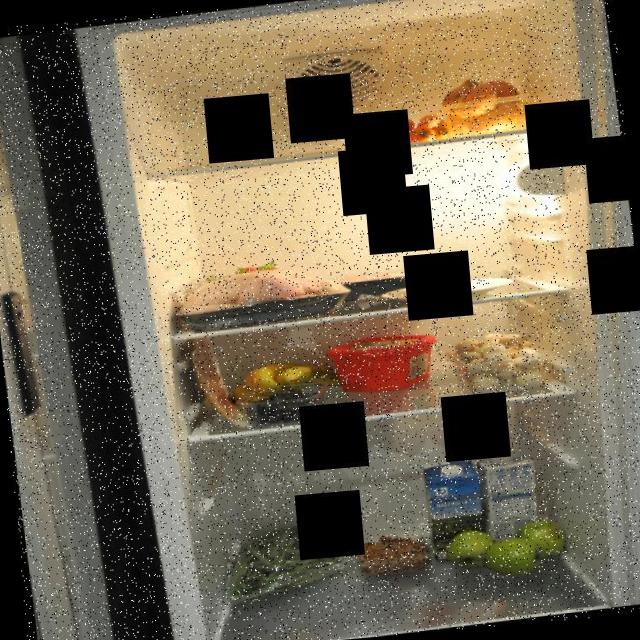Carne cerdo: (188, 334, 238, 432)
Carne pollo: (174, 258, 357, 334)
Cebolla: (434, 70, 530, 138)
Champiñones: (439, 326, 551, 400)
Gambas/Langostinos: (355, 526, 432, 577)
Leche: (416, 456, 492, 562), (481, 449, 548, 557)
Mantequilla: (322, 324, 442, 398)
Manzana: (439, 514, 572, 584)
Plátano: (225, 350, 348, 408)
Queso: (401, 256, 474, 302)
Zanahoria: (344, 106, 454, 152)
blueberries: (242, 382, 332, 428)
green_beans: (221, 518, 356, 603)
